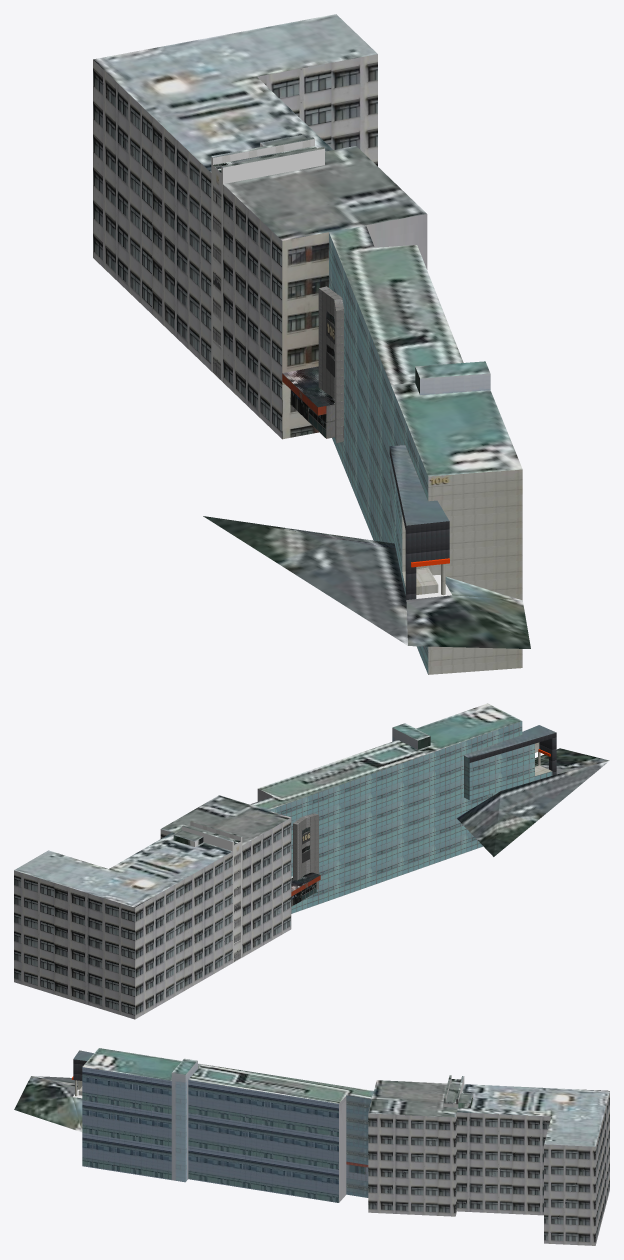
The model's file is building_103.fbx.
3 views of the same model, one above another, from view 1: azimuth 30°, elevation 25°; view 2: azimuth 150°, elevation 25°; view 3: azimuth 270°, elevation 25° (orthographic). The views are drawn at different scales.
Parts seen in each view (by area): view 1: skp6A7F1; view 2: skp6A7F1; view 3: skp6A7F1.
Part boxes in pixels (box(x1,y1,x2,y2)): skp6A7F1: box(93, 14, 530, 674); skp6A7F1: box(14, 703, 609, 1019); skp6A7F1: box(14, 1048, 609, 1245).
Size of the model in its own units: 2454 by 1024 by 5144.
